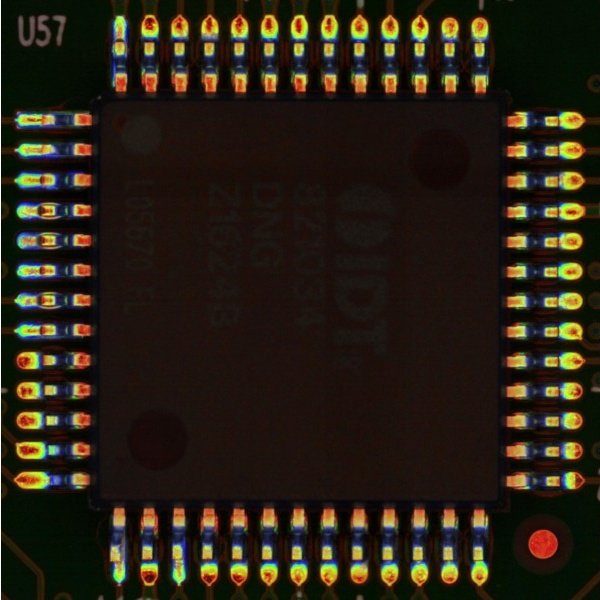Bad_podu: (28, 175, 49, 185), (30, 114, 48, 125), (173, 549, 180, 572), (32, 267, 49, 276), (113, 33, 123, 47), (114, 557, 122, 571), (34, 326, 44, 335)
Bad_qiaojiao: (39, 305, 62, 310), (39, 202, 59, 207), (39, 291, 59, 296), (40, 216, 62, 220), (39, 232, 61, 236), (40, 246, 62, 249)
